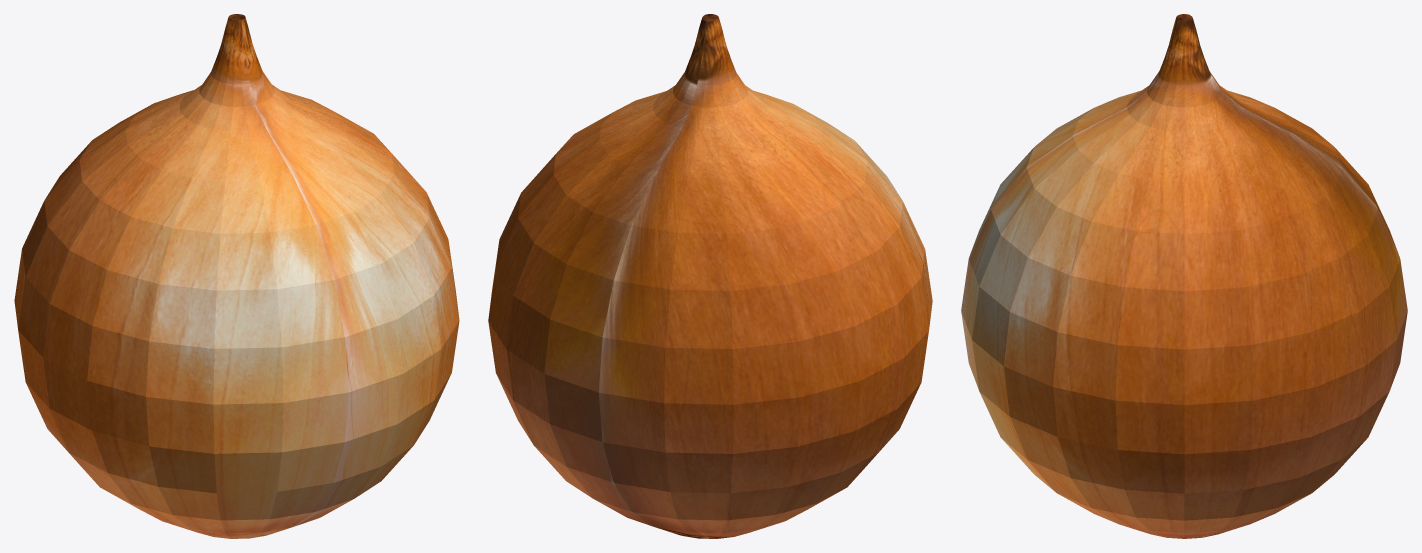
The model's file is onion.fbx.
3 views of the same model, side by side, from view 1: azimuth 30°, elevation 25°; view 2: azimuth 150°, elevation 25°; view 3: azimuth 270°, elevation 25° (orthographic).
Parts seen in each view (by area): view 1: onion; view 2: onion; view 3: onion.
Boxes of the visible parts, x1,y1,x2,y2 form: onion: (14, 14, 459, 538); onion: (488, 14, 932, 538); onion: (961, 14, 1407, 538).
Bounding box in the file's own units: 200 × 251 × 200.
